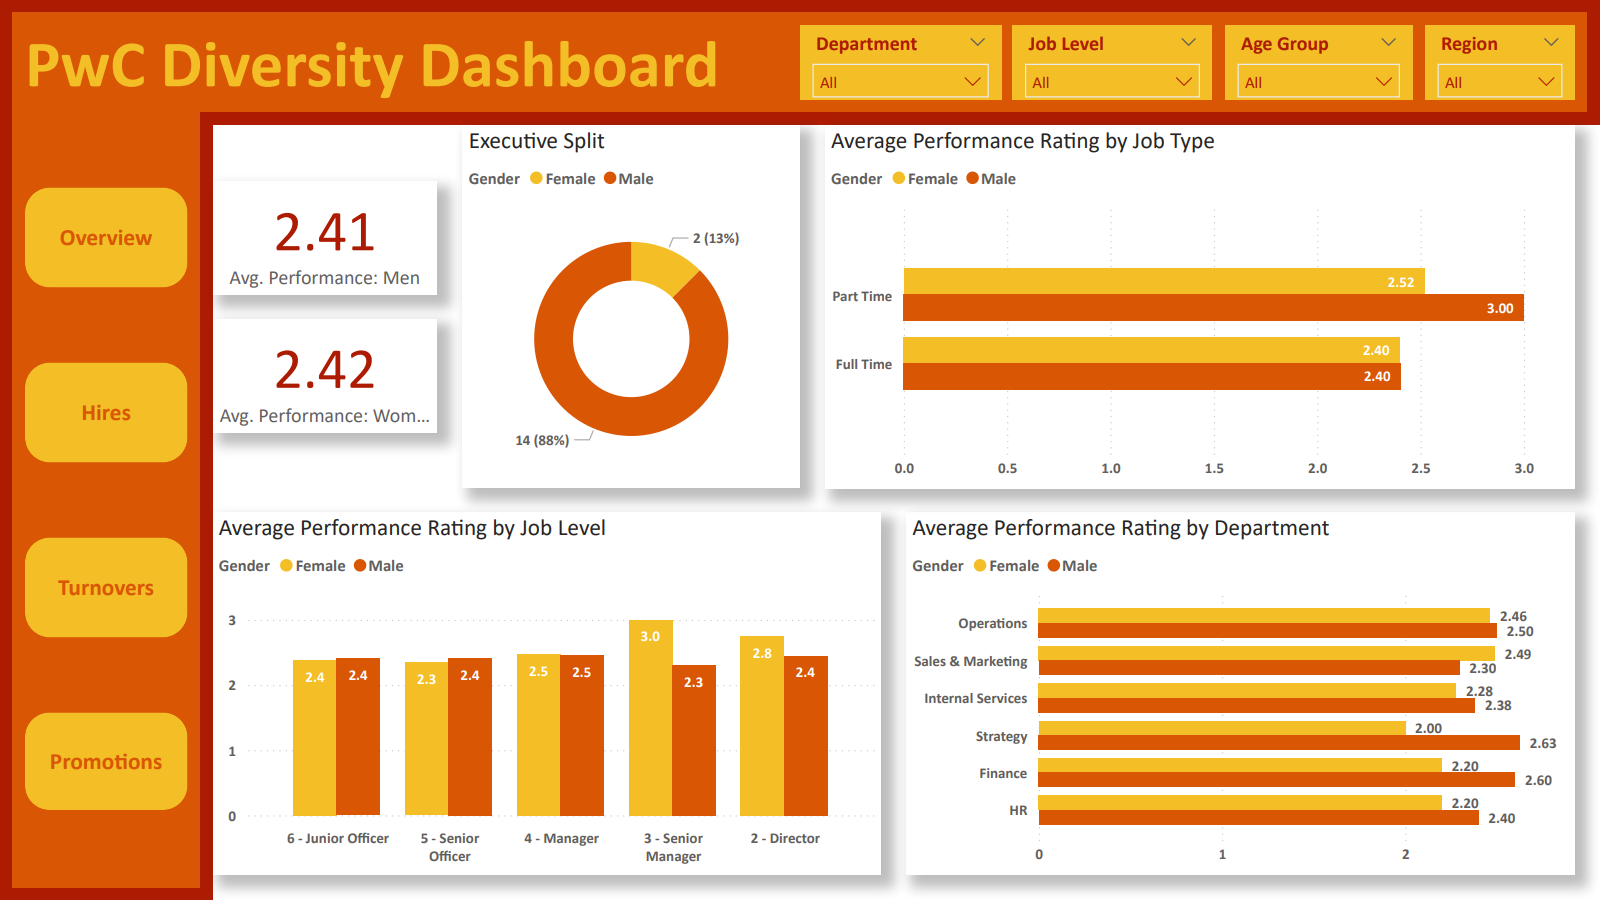

What the dashboard file says about the page in this screenshot:
{"tool":"powerbi","page":{"name":"Performance","canvas":[1280,720],"ordinal":4},"visuals":[{"type":"shape","box":[0,0,1280,100],"z":0},{"type":"shape","box":[10,10,1260,80],"z":1000},{"type":"slicer","fields":{"Values":["Pharma Group AG.Department @01.07.2020"]},"box":[640,20,160.5,60.4],"z":2000},{"type":"slicer","fields":{"Values":["Pharma Group AG.Job Level after FY20 promotions"]},"box":[810,20,160,60.4],"z":3000},{"type":"slicer","fields":{"Values":["Pharma Group AG.Age group"]},"box":[980,20,150,60.4],"z":4000},{"type":"slicer","fields":{"Values":["Pharma Group AG.Region group: nationality 1"]},"box":[1140,20,120,60.4],"z":5000},{"type":"shape","box":[0,99,170,621],"z":6000},{"type":"shape","box":[10,88,150,622],"z":7000},{"type":"actionButton","box":[20,150,130,80],"z":8000},{"type":"actionButton","box":[20,290,130,80],"z":9000},{"type":"actionButton","box":[20,430,130,80],"z":10000},{"type":"actionButton","box":[20,570,130,78],"z":11000},{"type":"card","fields":{"Values":["Pharma Group AG.Average Performance Rating Men"]},"box":[170,145,180,90.6],"z":12000},{"type":"clusteredBarChart","title":"Average Performance Rating by Department","fields":{"Category":["Pharma Group AG.Department @01.07.2020"],"Y":["Pharma Group AG.Department Performance"],"Series":["Pharma Group AG.Gender"]},"box":[725,410,535,290],"z":13000},{"type":"card","fields":{"Values":["Pharma Group AG.Average Performance Rating Women"]},"box":[170,255,180,90.6],"z":14000},{"type":"donutChart","title":"Executive Split","fields":{"Series":["Pharma Group AG.Gender"],"Y":["Pharma Group AG.Executive Split"]},"box":[370,100,270,290],"z":15000},{"type":"clusteredBarChart","title":"Average Performance Rating by Job Type","fields":{"Category":["Pharma Group AG.Time type"],"Series":["Pharma Group AG.Gender"],"Y":["Pharma Group AG.Time Type Performance"]},"box":[660,100,600,290.9],"z":16000},{"type":"clusteredColumnChart","title":"Average Performance Rating by Job Level","fields":{"Series":["Pharma Group AG.Gender"],"Y":["Pharma Group AG.Job Level Performance"],"Category":["Pharma Group AG.Job Level after FY20 promotions"]},"box":[170,410,535,290],"z":17000}]}

Visuals, with their boxes in screenshot pixels (x1, y1, x2, y2), scaled from the page's 1280x720 canvas onto the 1600x900 screenshot:
shape: <box>0,0,1599,125</box>
shape: <box>12,12,1588,112</box>
slicer - Pharma Group AG.Department @01.07.2020: <box>800,25,1001,100</box>
slicer - Pharma Group AG.Job Level after FY20 promotions: <box>1012,25,1212,100</box>
slicer - Pharma Group AG.Age group: <box>1225,25,1412,100</box>
slicer - Pharma Group AG.Region group: nationality 1: <box>1425,25,1575,100</box>
shape: <box>0,124,212,899</box>
shape: <box>12,110,200,888</box>
actionButton: <box>25,188,188,288</box>
actionButton: <box>25,362,188,462</box>
actionButton: <box>25,538,188,638</box>
actionButton: <box>25,712,188,810</box>
card - Pharma Group AG.Average Performance Rating Men: <box>212,181,438,294</box>
"Average Performance Rating by Department" clusteredBarChart: <box>906,512,1575,875</box>
card - Pharma Group AG.Average Performance Rating Women: <box>212,319,438,432</box>
"Executive Split" donutChart: <box>462,125,800,488</box>
"Average Performance Rating by Job Type" clusteredBarChart: <box>825,125,1575,489</box>
"Average Performance Rating by Job Level" clusteredColumnChart: <box>212,512,881,875</box>
